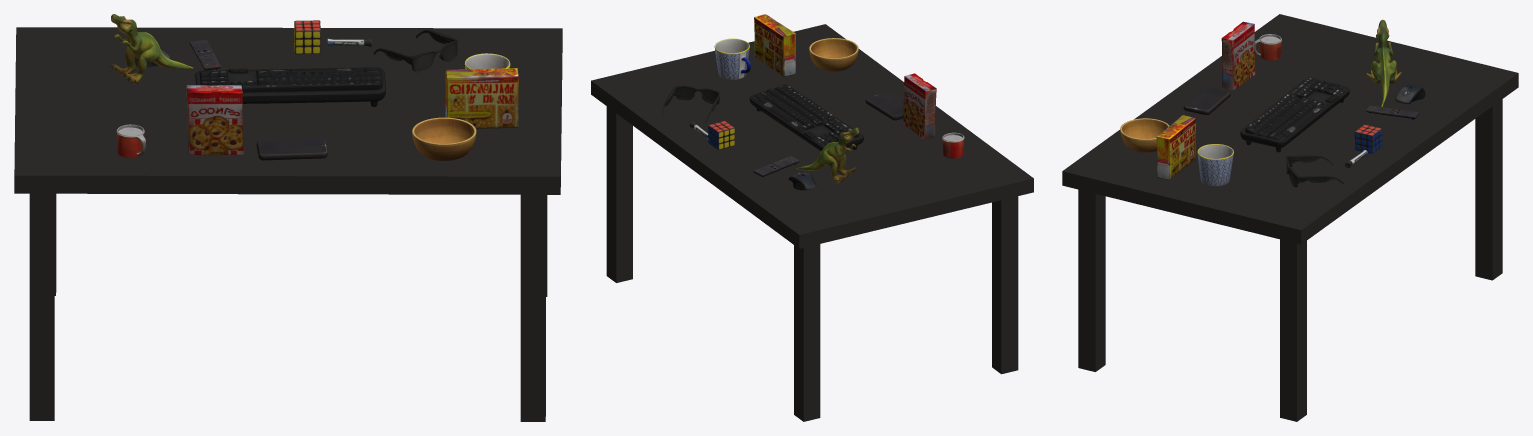
Rendered from ours.glb.
3 renders of one model, left to right at view 1: azimuth 30°, elevation 25°; view 2: azimuth 150°, elevation 25°; view 3: azimuth 270°, elevation 25°, orthographic. The views are drawn at different scales.
Parts seen in each view (by area): view 1: desk_0, obj_keyboard_0, obj_cereal_box_0, obj_cereal_box_1, obj_bowl_0, obj_toy_dinosaur_0, obj_phone_0, obj_glasses_0, obj_rubik_s_cube_0, obj_cup_0, obj_mug_0, obj_remote_control_0; view 2: desk_0, obj_keyboard_0, obj_cereal_box_0, obj_cereal_box_1, obj_bowl_0, obj_mug_0, obj_toy_dinosaur_0, obj_glasses_0, obj_phone_0, obj_rubik_s_cube_0, obj_cup_0, obj_remote_control_0; view 3: desk_0, obj_keyboard_0, obj_cereal_box_0, obj_cereal_box_1, obj_mug_0, obj_toy_dinosaur_0, obj_bowl_0, obj_phone_0, obj_glasses_0, obj_rubik_s_cube_0, obj_cup_0, obj_mouse_0.
Boxes of the visible parts, box(x1,y1,x2,y2) form: desk_0: box(14, 27, 562, 421); obj_keyboard_0: box(195, 67, 385, 106); obj_cereal_box_0: box(445, 68, 518, 128); obj_cereal_box_1: box(186, 85, 244, 155); obj_bowl_0: box(412, 117, 476, 160); obj_toy_dinosaur_0: box(110, 14, 193, 84); obj_phone_0: box(256, 138, 327, 160); obj_glasses_0: box(373, 30, 458, 72); obj_rubik_s_cube_0: box(294, 20, 320, 54); obj_cup_0: box(116, 124, 145, 158); obj_mug_0: box(464, 53, 510, 69); obj_remote_control_0: box(189, 39, 220, 70); desk_0: box(591, 24, 1033, 421); obj_keyboard_0: box(749, 84, 863, 151); obj_cereal_box_0: box(754, 14, 795, 76); obj_cereal_box_1: box(903, 73, 936, 139); obj_bowl_0: box(809, 38, 858, 71); obj_mug_0: box(714, 38, 750, 79); obj_toy_dinosaur_0: box(796, 127, 858, 183); obj_glasses_0: box(662, 85, 720, 123); obj_phone_0: box(865, 92, 903, 120); obj_rubik_s_cube_0: box(708, 121, 735, 149); obj_cup_0: box(942, 132, 964, 158); obj_remote_control_0: box(753, 156, 799, 176); desk_0: box(1062, 14, 1518, 421); obj_keyboard_0: box(1240, 77, 1349, 152); obj_cereal_box_0: box(1156, 115, 1195, 179); obj_cereal_box_1: box(1221, 21, 1255, 90); obj_mug_0: box(1197, 144, 1233, 186); obj_toy_dinosaur_0: box(1365, 19, 1401, 106); obj_bowl_0: box(1120, 118, 1169, 152); obj_phone_0: box(1183, 86, 1230, 114); obj_glasses_0: box(1286, 155, 1343, 187); obj_rubik_s_cube_0: box(1354, 124, 1382, 153); obj_cup_0: box(1254, 34, 1281, 60); obj_mouse_0: box(1395, 85, 1425, 104).
Size of what is drawn, in the model's own units: 1.29 by 0.7151 by 1.15.
Materials: 15 (15 with a texture image).
